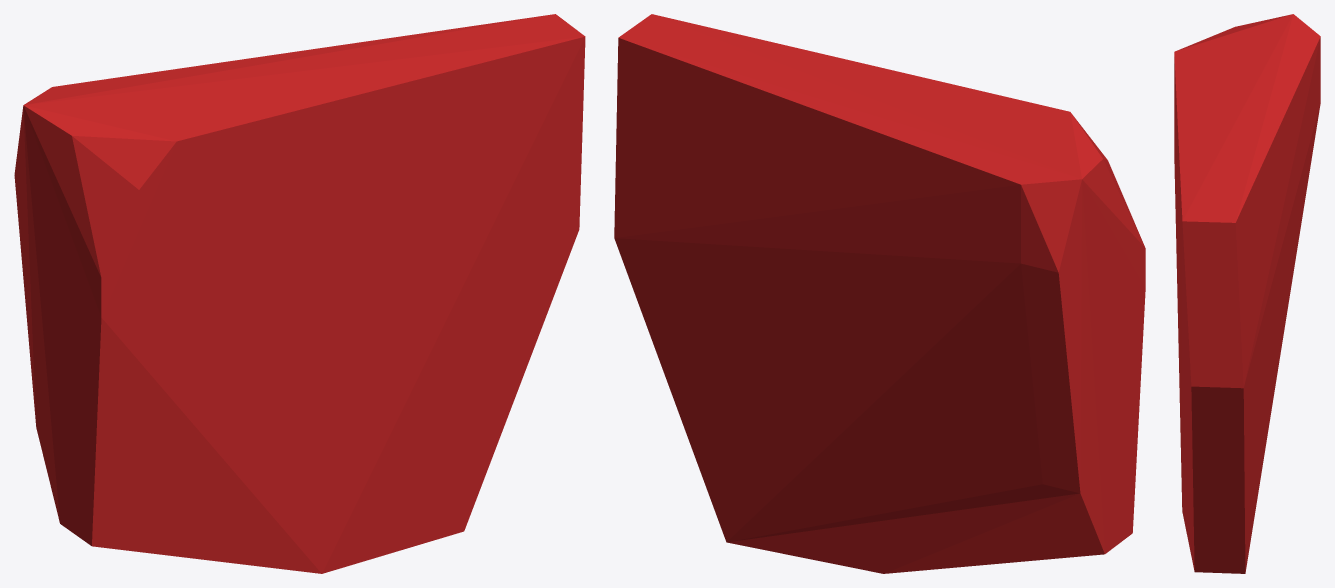
The model's file is mouth_cup053.obj.
The picture shows the model from 3 angles, left to right: view 1: azimuth 30°, elevation 25°; view 2: azimuth 150°, elevation 25°; view 3: azimuth 270°, elevation 25°; orthographic projection. The views are drawn at different scales.
Parts seen in each view (by area): view 1: mouth_cup053; view 2: mouth_cup053; view 3: mouth_cup053.
Part boxes in pixels (left/top/right/bottom): mouth_cup053: left=14, top=14, right=585, bottom=573; mouth_cup053: left=614, top=14, right=1145, bottom=573; mouth_cup053: left=1174, top=14, right=1320, bottom=573.
Size of the model in its own units: 0.0792 by 0.0727 by 0.024.
